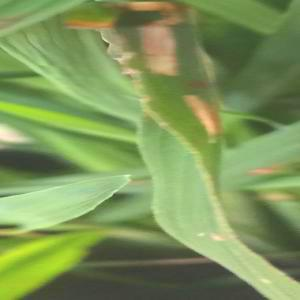1 RiceBlast: (131, 17, 194, 84), (177, 86, 227, 150)
